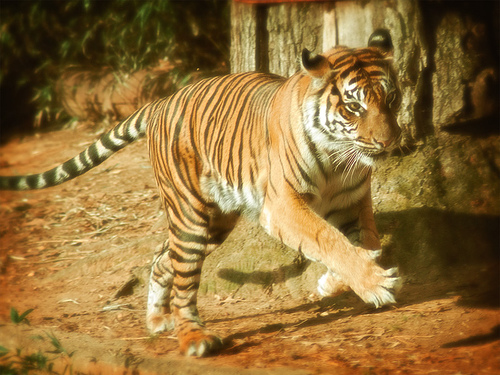Tigre: (100, 45, 439, 330)
